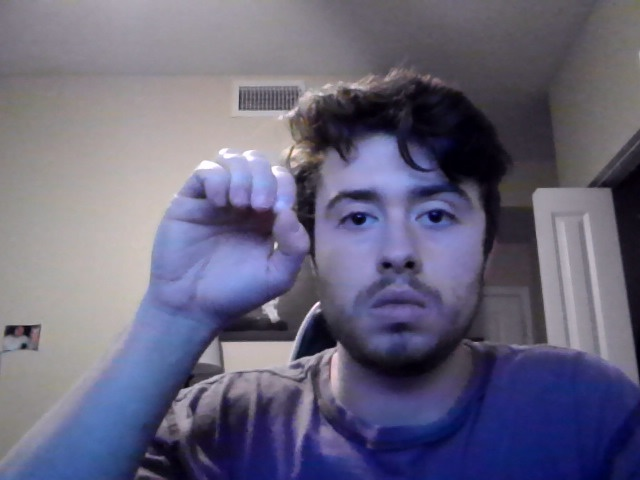o: (146, 147, 311, 350)
